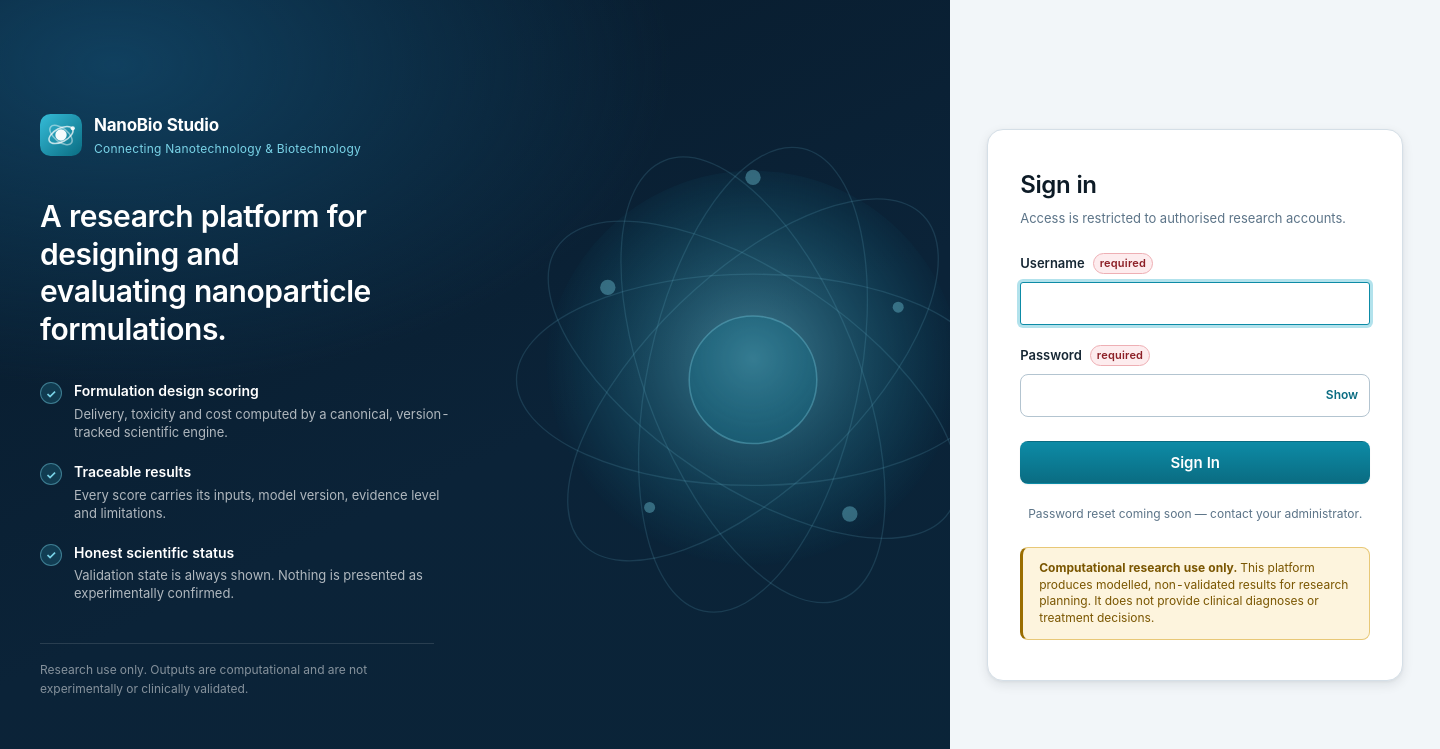
login › signs in successfully and lands on the pathway chooser
This screenshot has width=1440, height=749.
Check: the heading "Sign in" is shown, box [1020, 170, 1097, 199]
Type "admin" into the field labelled "Username" at (1195, 304), box [1020, 282, 1370, 325]
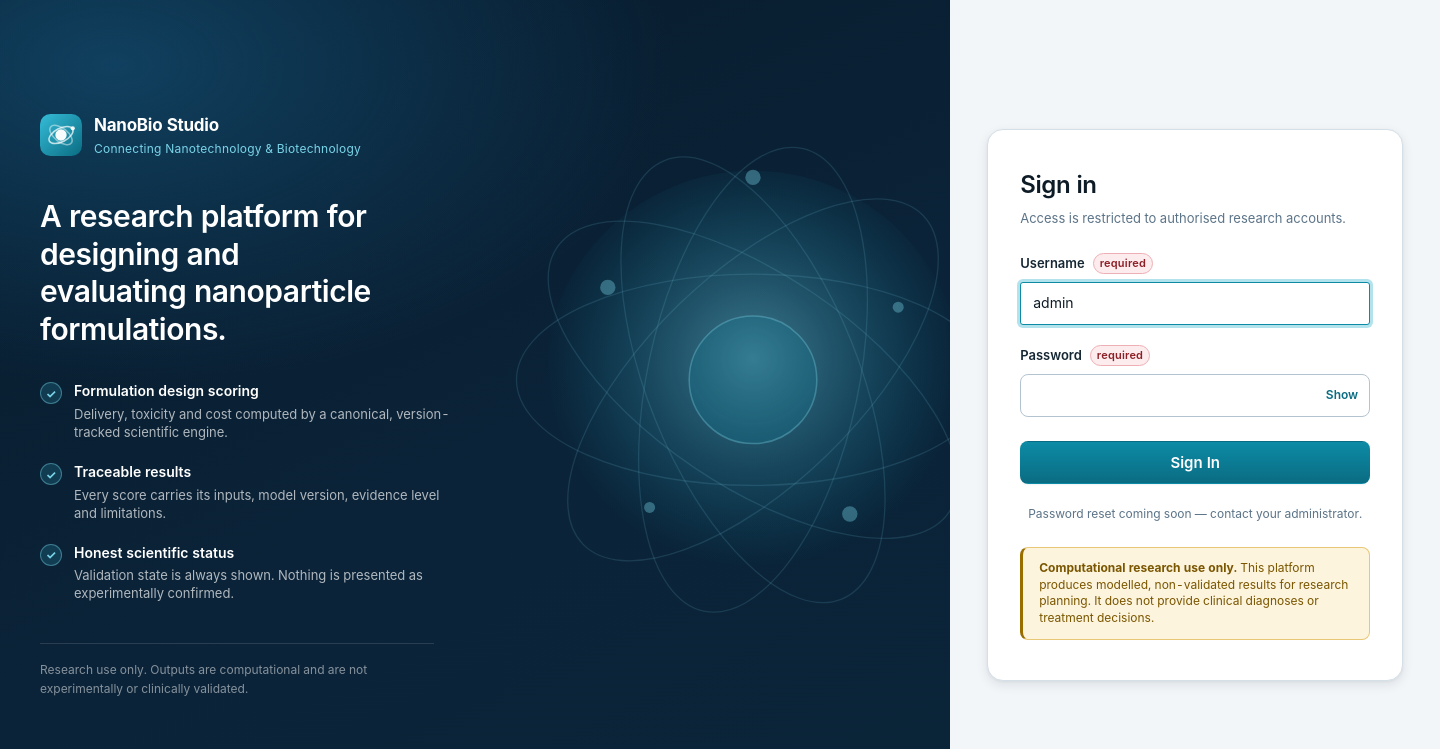
Type "correct-horse-battery" into the password field labelled "Password" at (1195, 396), box [1020, 374, 1370, 417]
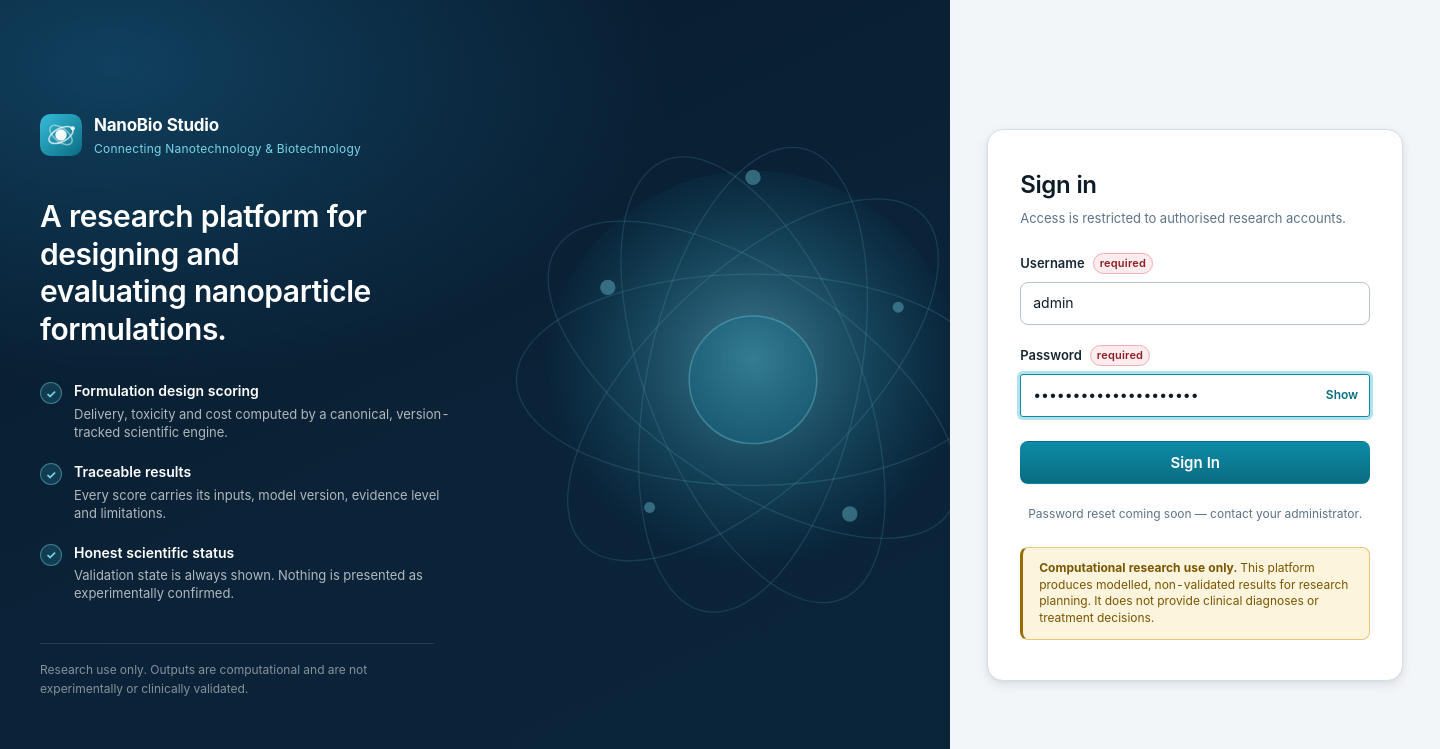
Click the button "Sign In" at (1195, 462), box [1020, 441, 1370, 484]
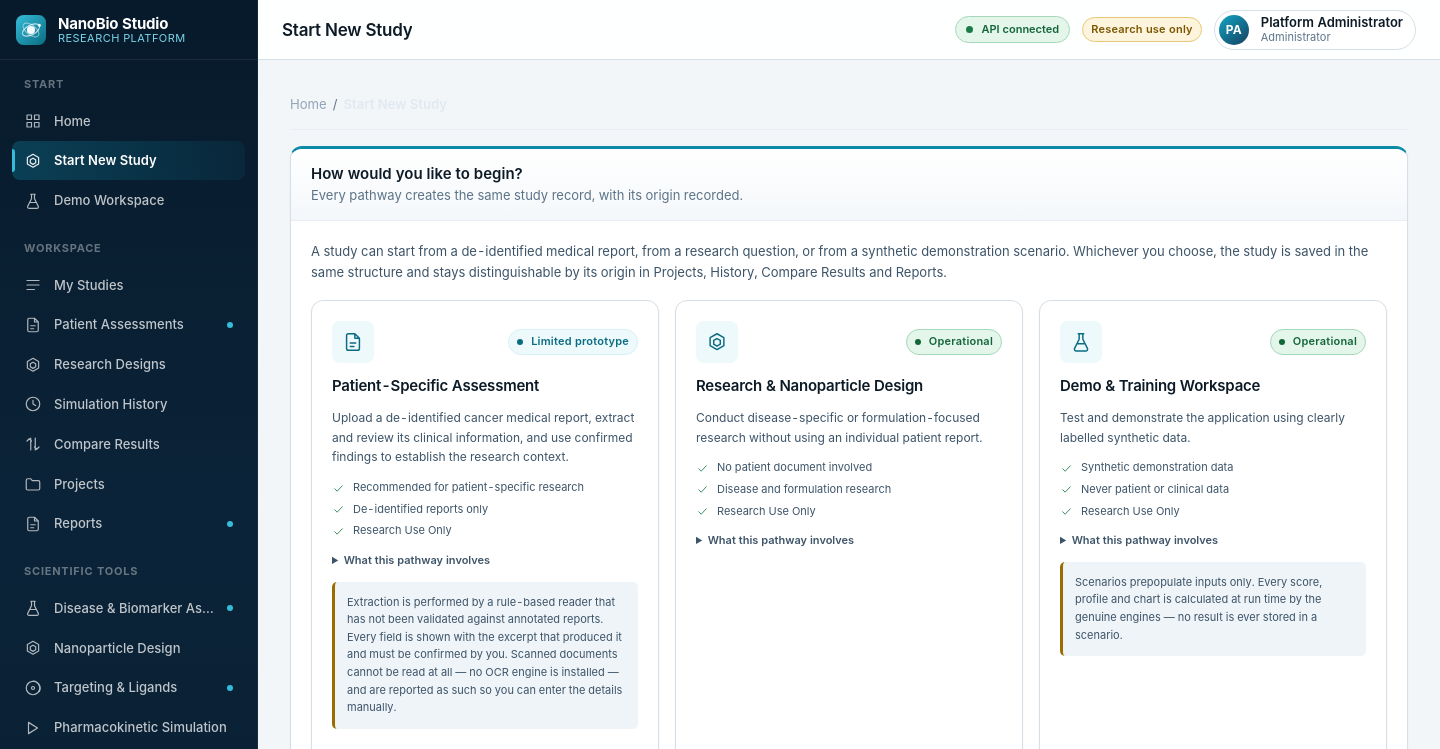
Check: the heading "How would you like to begin?" is shown, box [311, 164, 523, 183]
Check: the text with test id "user-name" reads "Platform Administrator", box [1261, 14, 1403, 30]
